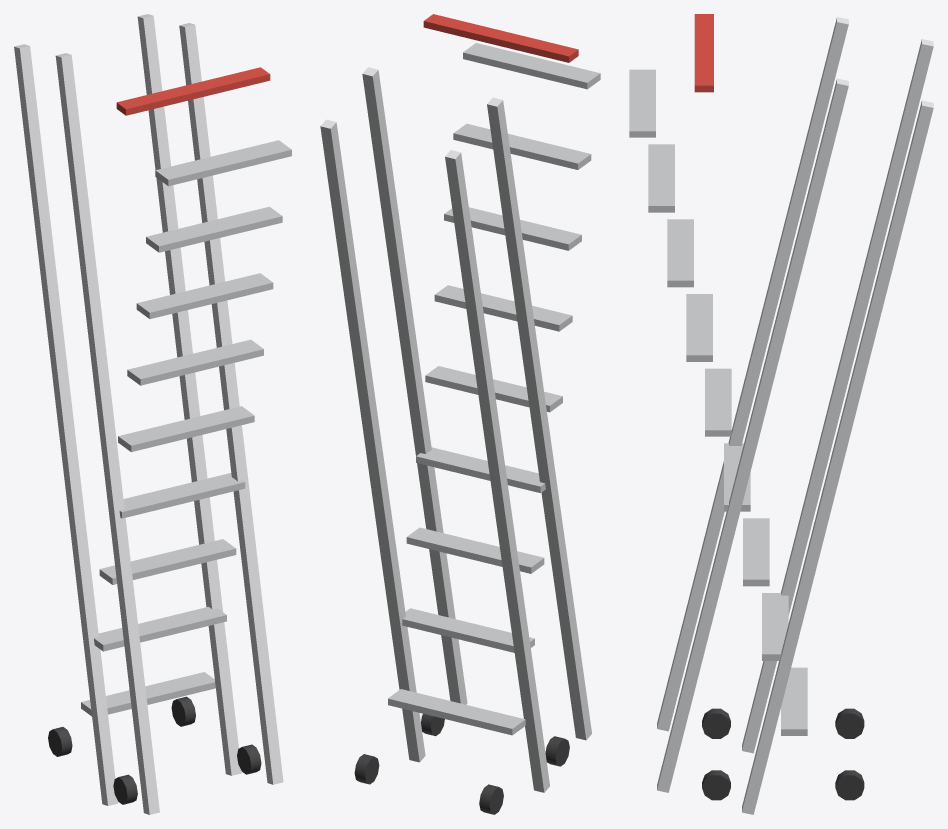
The model's file is ladder_rolling.glb.
3 views of the same model, side by side, from view 1: azimuth 30°, elevation 25°; view 2: azimuth 150°, elevation 25°; view 3: azimuth 270°, elevation 25° (orthographic). The views are drawn at different scales.
Visible parts, largest first — view 1: ladder_rolling; view 2: ladder_rolling; view 3: ladder_rolling.
Boxes of the visible parts, bbox=[...] form: ladder_rolling: bbox=[14, 14, 291, 814]; ladder_rolling: bbox=[320, 14, 600, 814]; ladder_rolling: bbox=[629, 14, 933, 814].
Bounding box in the file's own units: 0.7 × 3.33 × 1.26.
